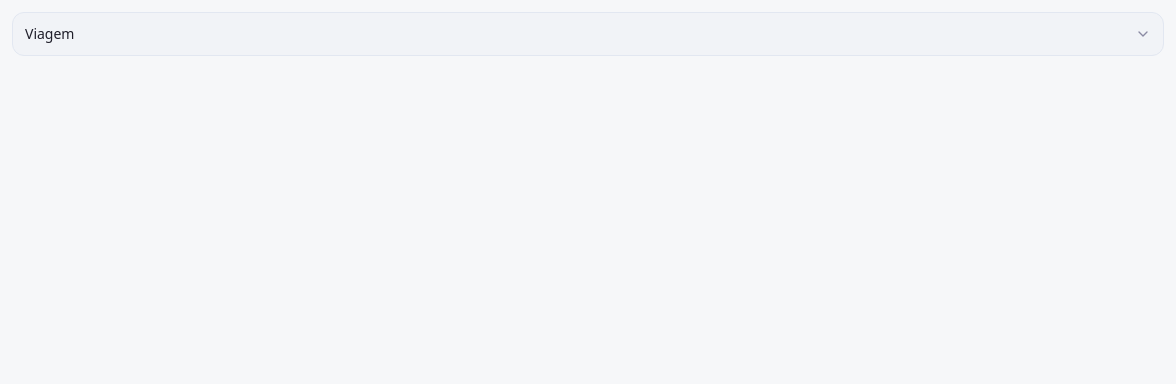
Test: Select › busca aparece com mais de 8 opções e filtra por texto sem acento
Earlier steps of the test are not shown.
Click the dropdown: (50, 34) [12,12,1164,56]
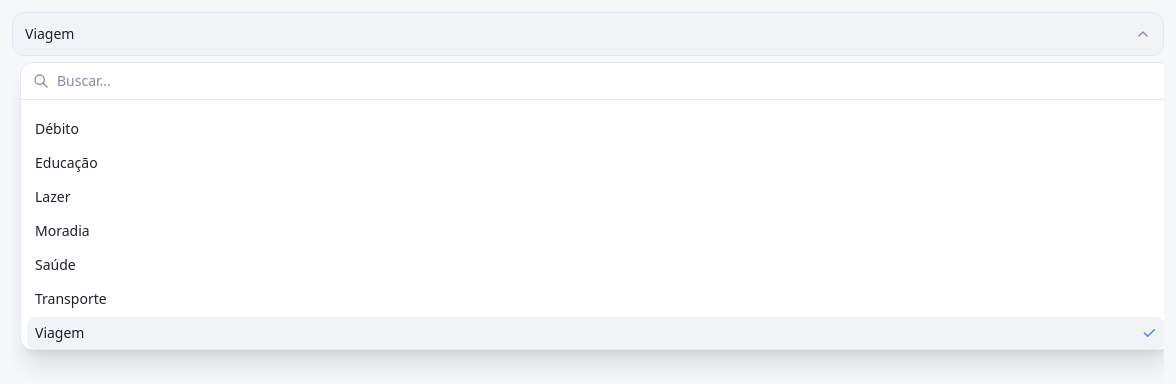
In the field: (608, 81) [57,71,1159,91], type "credito"
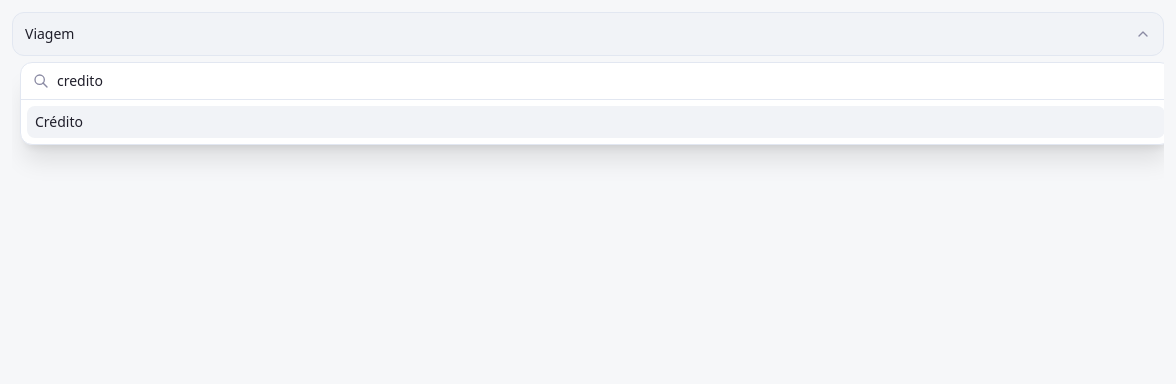
Check: the options read "Crédito", in this order, box [27,106,1165,138]
Replace the text in the field with "ÇÃO": (608, 81) [57,71,1159,91]
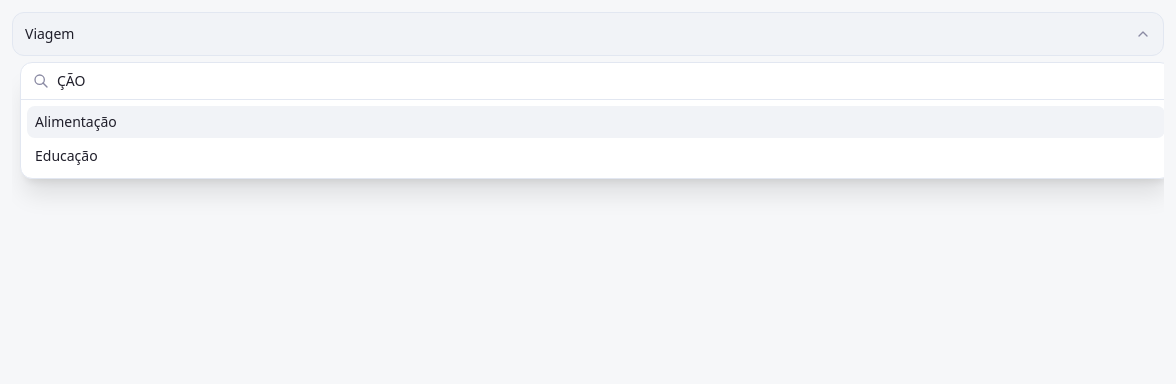
Check: the options read "Alimentação", "Educação", in this order, box [27,106,1165,138]; [35,146,98,165]
Press Enter in the field, box [57,71,1159,91]
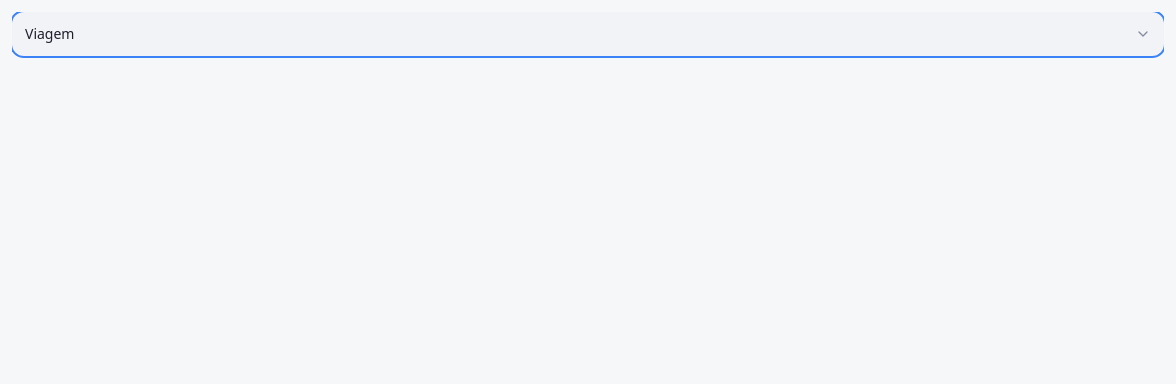
Check: the list is gone
